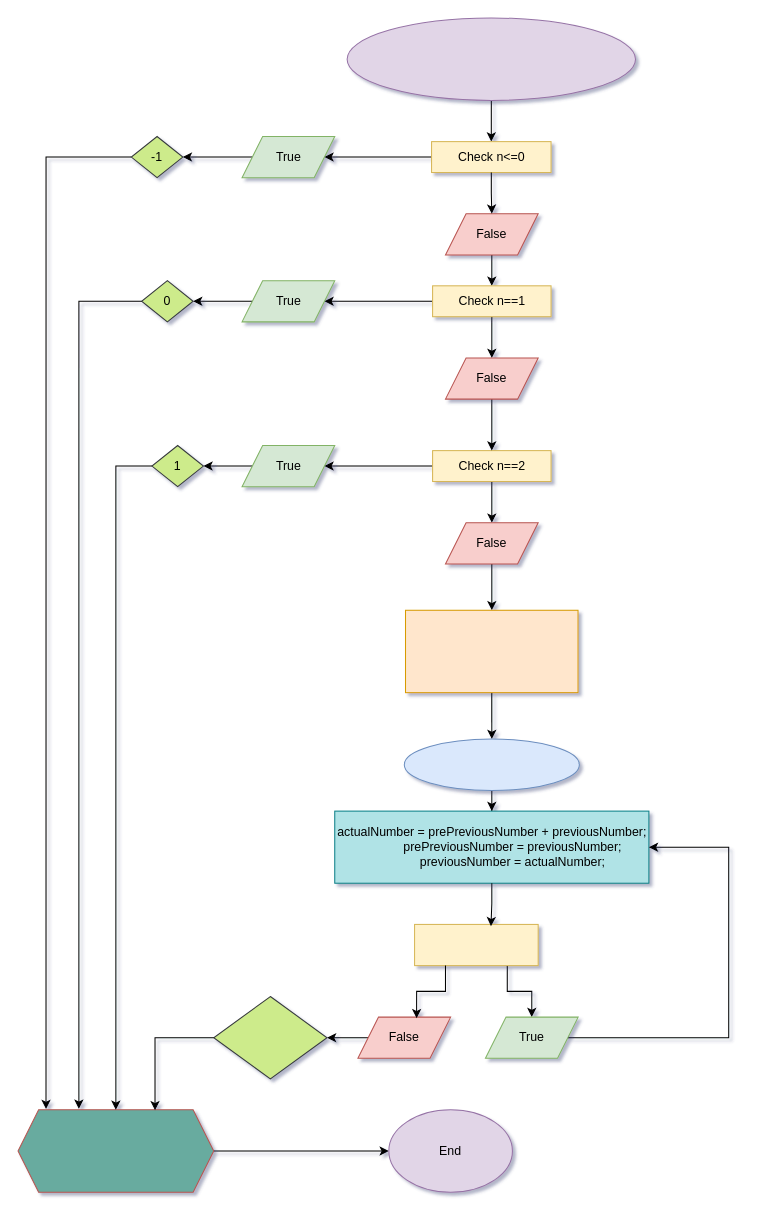
Some shapes in this 761 by 1216 pixel diagram are drawn without their labels. Here are the shapes that lost their labels. From the top down, the centre of each, then its label:
At point (491, 58): "Start public static long fibonacciIteration(int n)".
At point (491, 651): "Create: long prePreviousNumber = 0 long previousNumber = 1 long actualNumber = 0".
At point (491, 764): "for ( int i = 1; i < n ; i++ )".
At point (476, 944): "Check i <n".
At point (270, 1037): "actualNumber".
At point (115, 1150): "Return".
